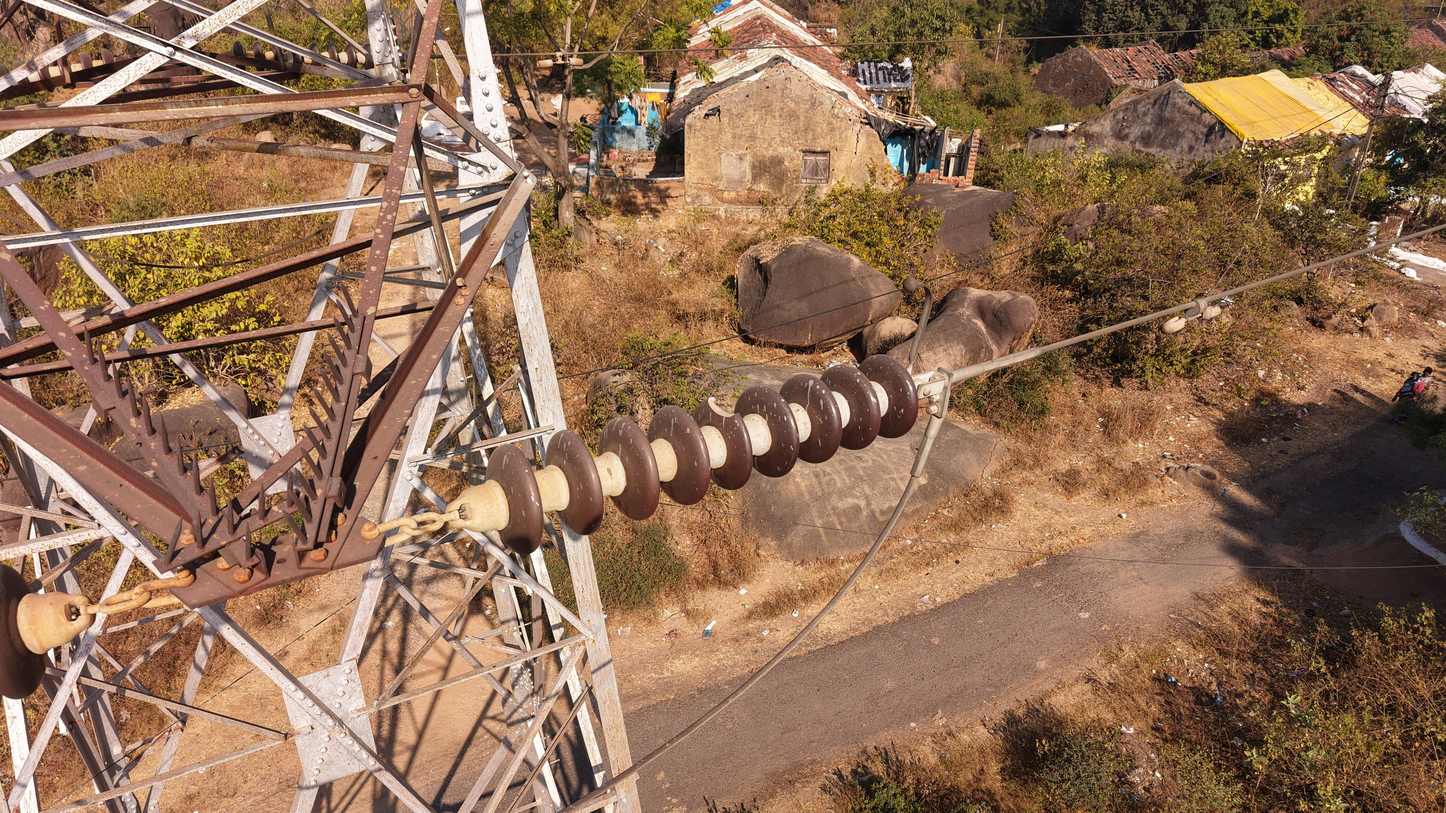broken_insulator: (690, 378, 767, 495)
